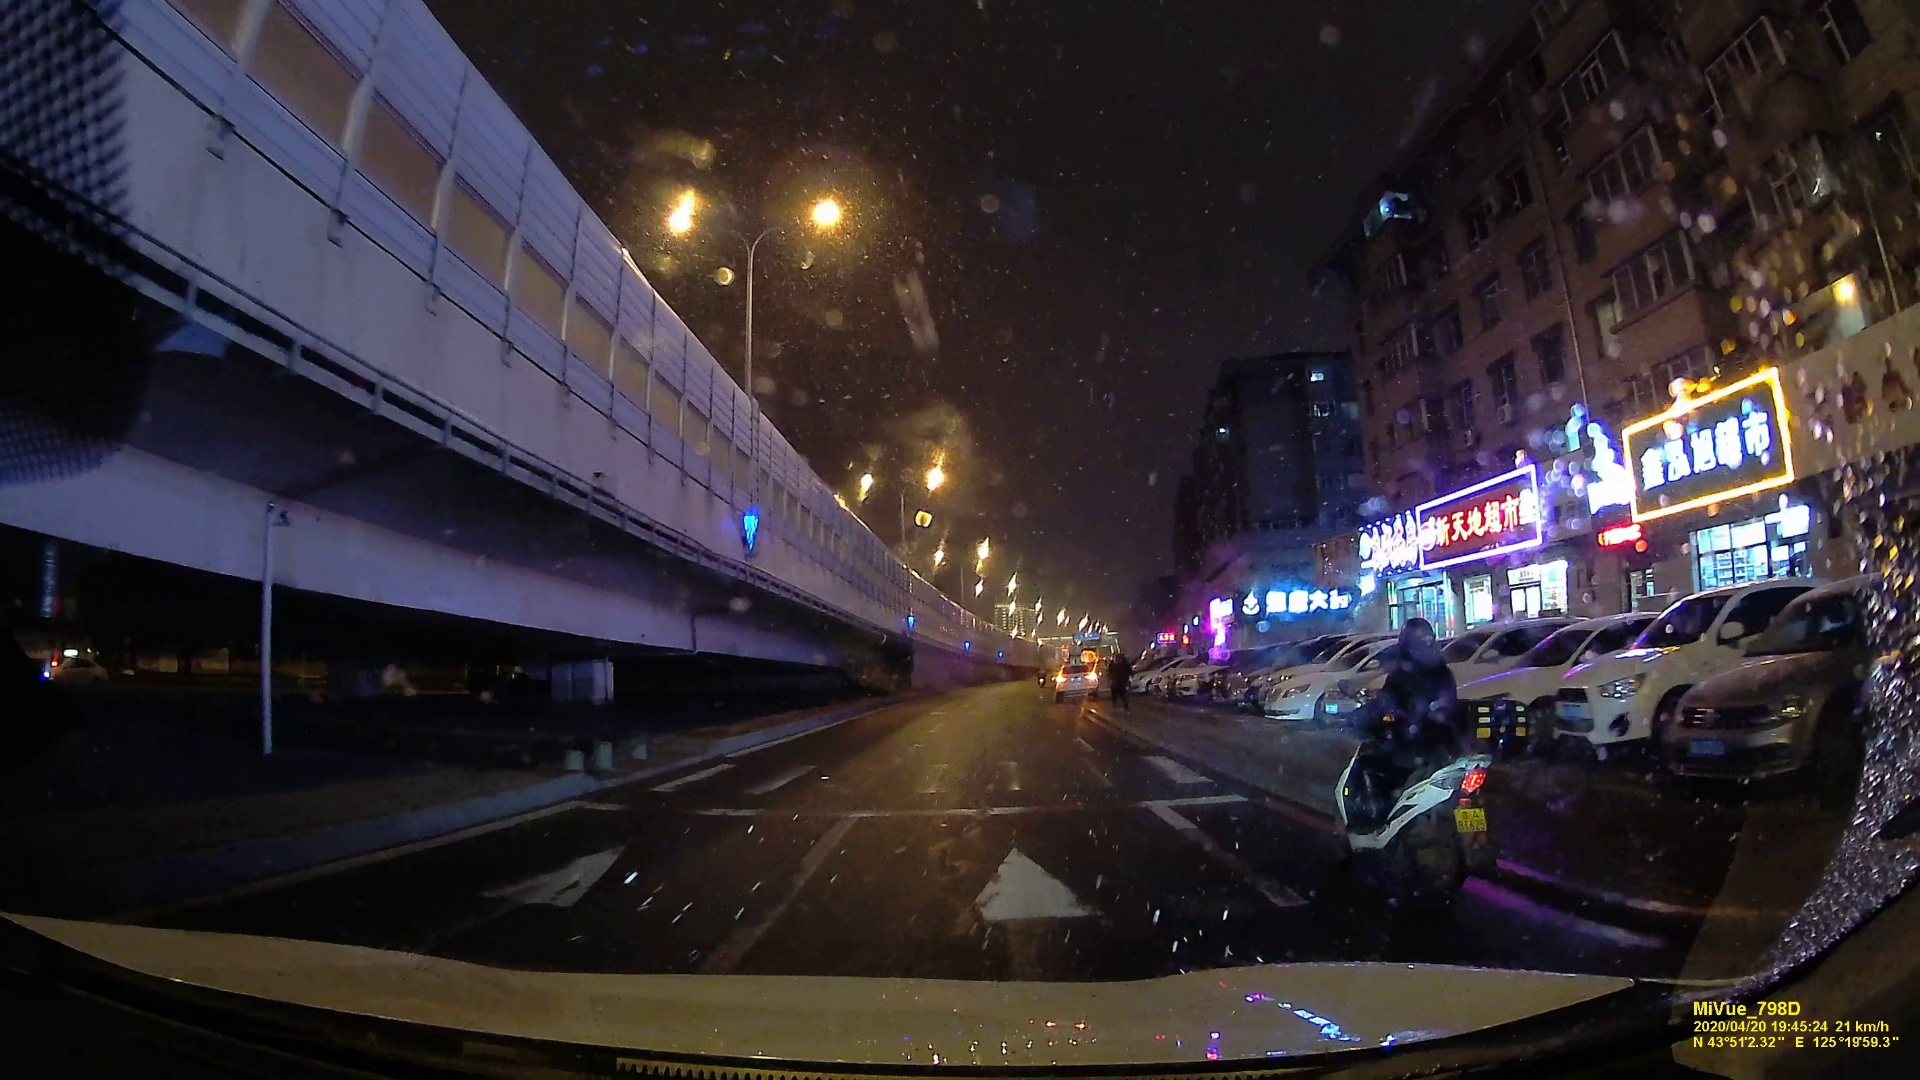person: (1352, 621, 1468, 809), (1108, 652, 1132, 708), (1037, 664, 1046, 679)
vehicle: (1652, 576, 1908, 788), (1053, 658, 1099, 700)
